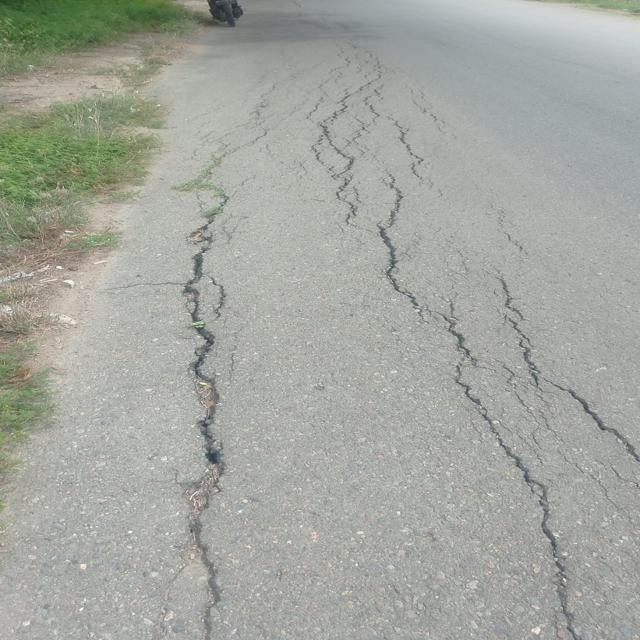Memanjang: (357, 206, 589, 640), (166, 162, 245, 637), (485, 284, 640, 466)
